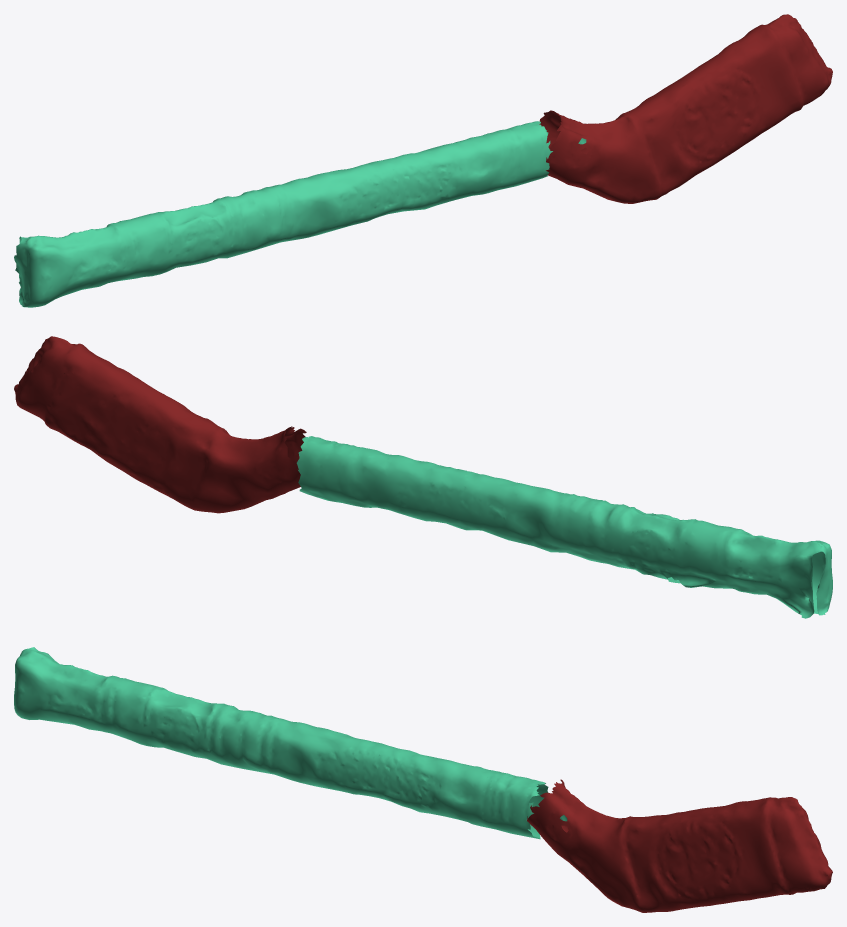
File: object_deformed_6.obj
The picture shows the model from 3 angles, top to bottom: view 1: azimuth 30°, elevation 25°; view 2: azimuth 150°, elevation 25°; view 3: azimuth 330°, elevation 25°; orthographic projection.
Bounding box in the file's own units: 0.6413 × 0.108 × 0.0415.
